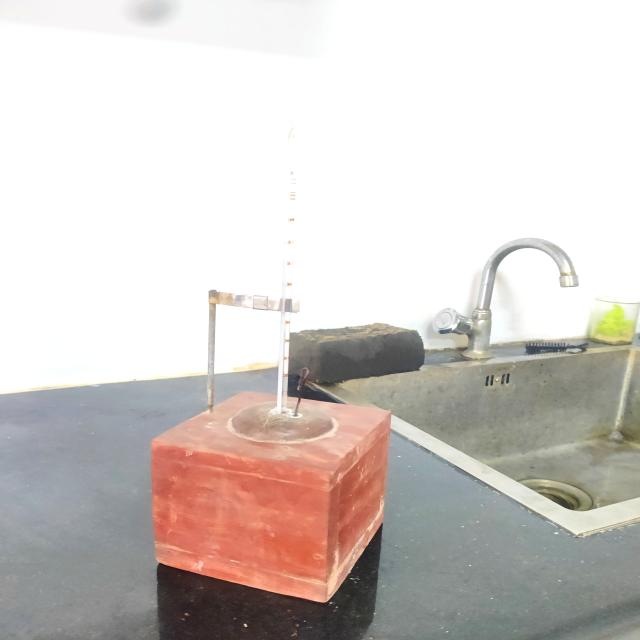Calorimeter: (128, 98, 415, 632)
